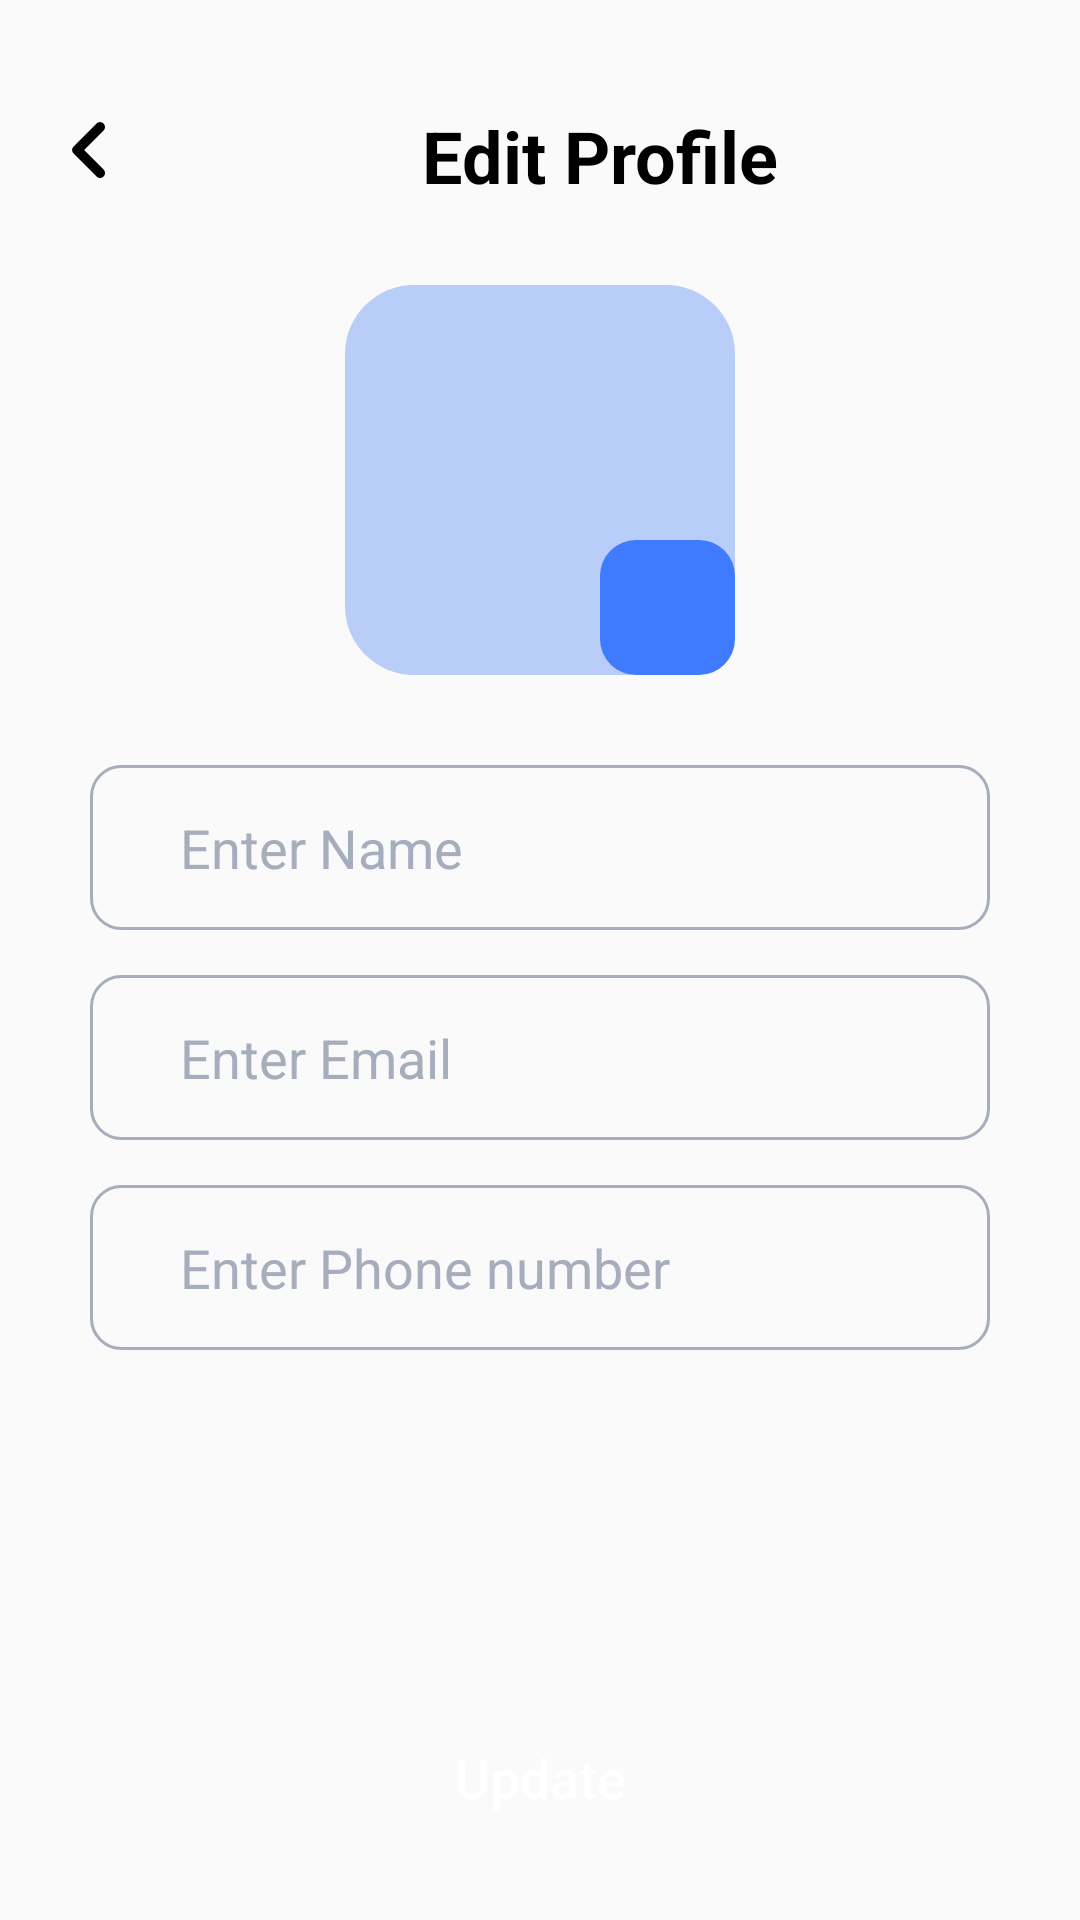

Point at icon controls on the screen. Image size 1080w x 1920h, points as (x,y).
left arrow: (88,150)
